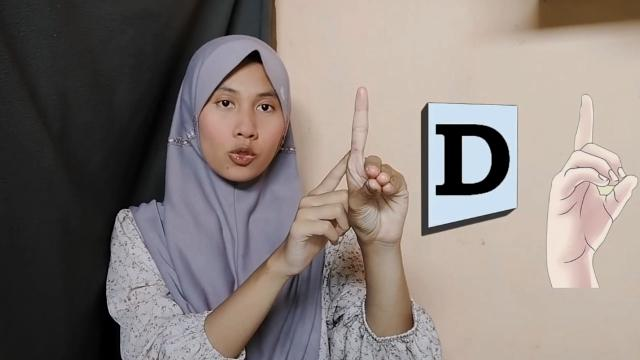D: (344, 82, 412, 255)
